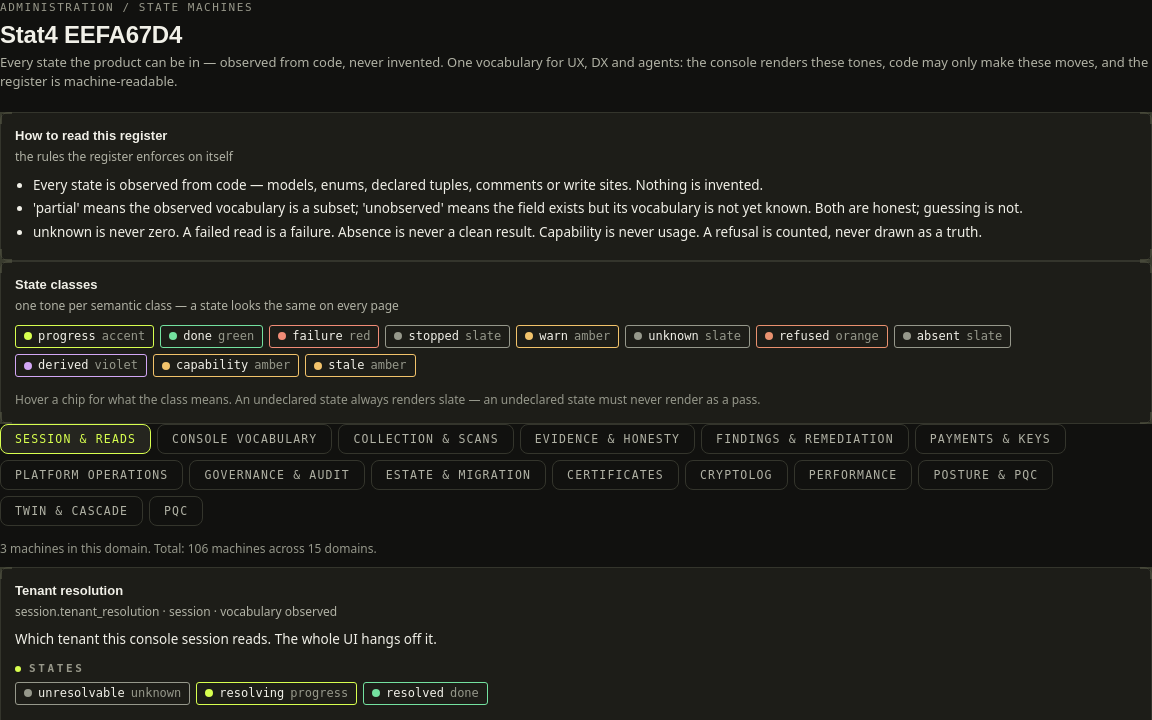
Test case: State machines explorer › a machine whose vocabulary is not observed says so instead of inventing states
The width and height of the screenshot is (1152, 720).
Step 1. Click the tab "Findings & remediation" → (805, 439), box [701,424,909,454]
(page scrolled)
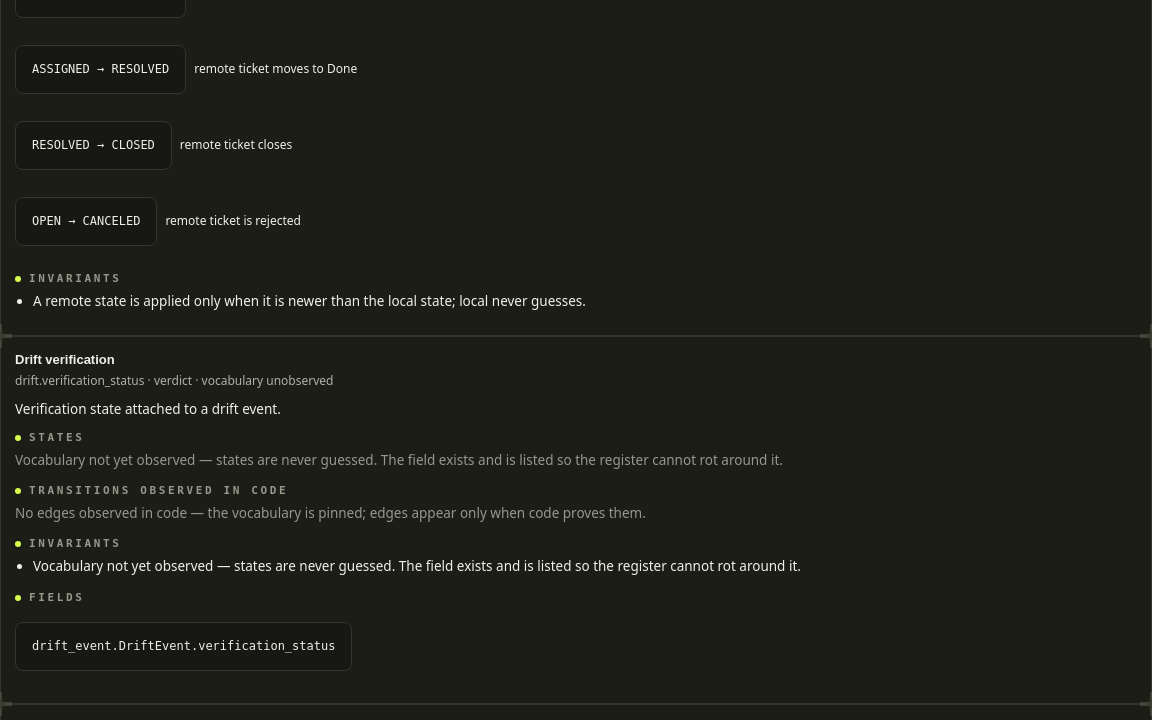
Now the text "Vocabulary not yet observed — states are never guessed" is shown, box [15,451,783,469]
Now the heading "Drift verification" is shown, box [15,352,115,367]
